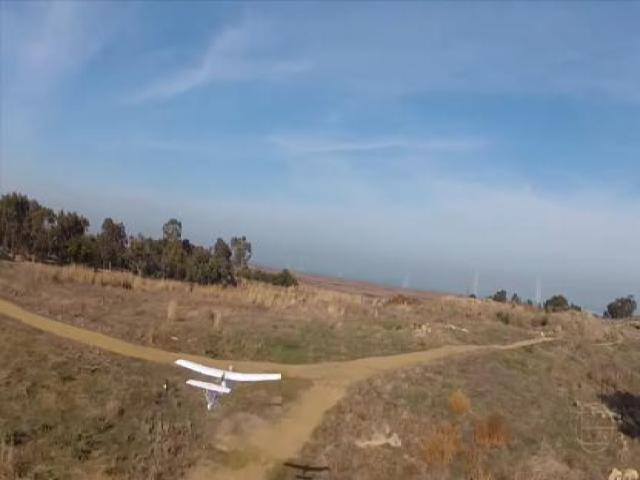uav: (170, 350, 285, 418)
